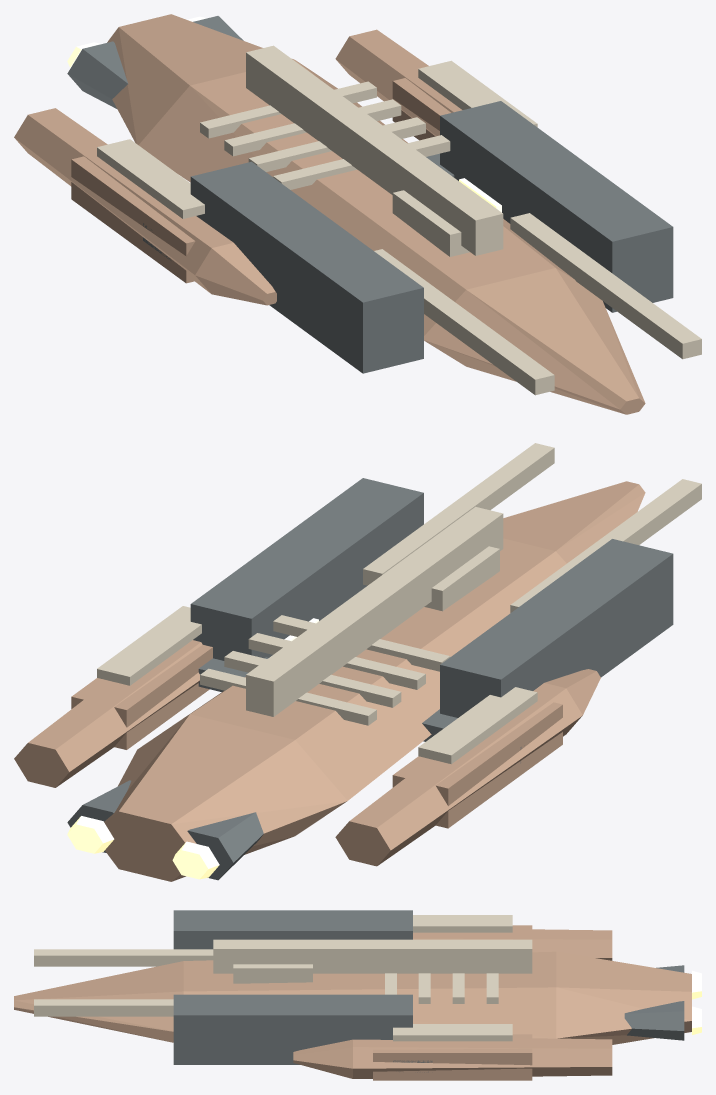
3 views of the same model, one above another, from view 1: azimuth 30°, elevation 25°; view 2: azimuth 150°, elevation 25°; view 3: azimuth 270°, elevation 25° (orthographic). The views are drawn at different scales.
Bounding box in the file's own units: 3 × 0.9783 × 6.62.
